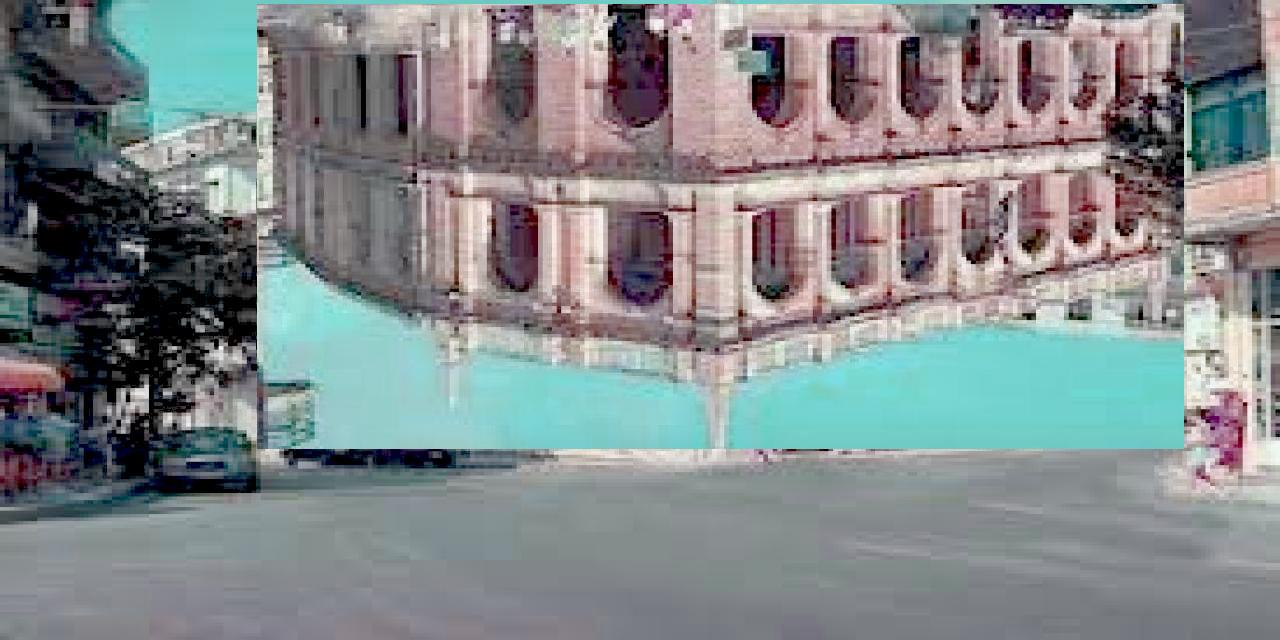Loggia: (258, 5, 1185, 450)
